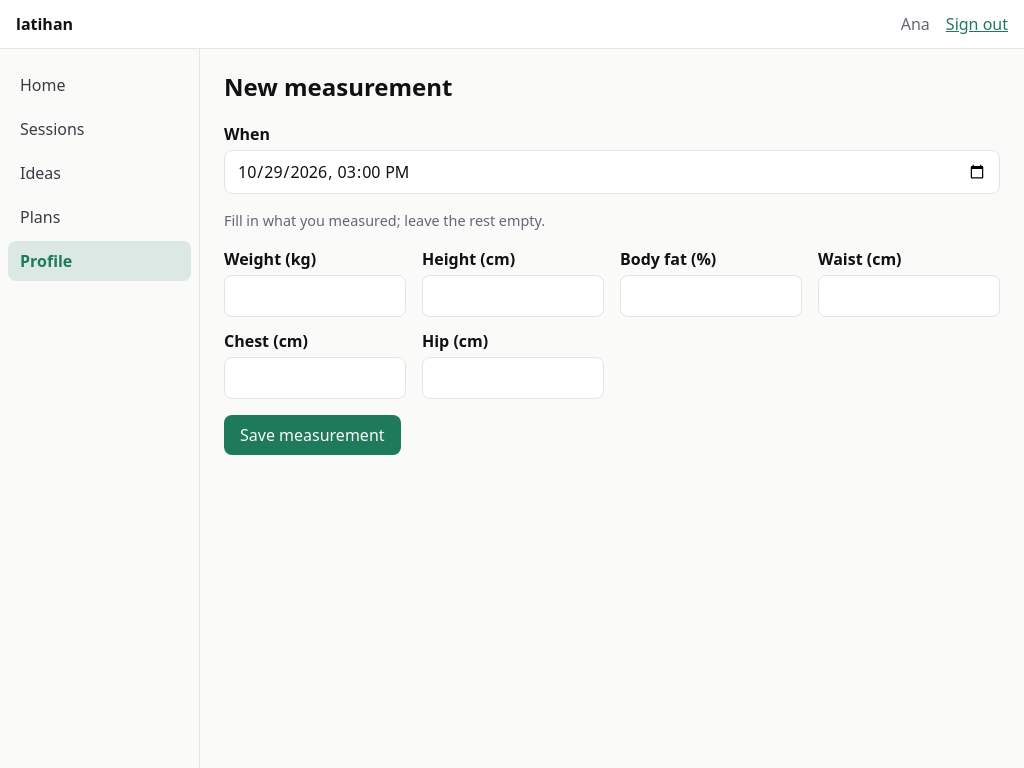
Scenario: adding a measurement › refuses an empty form without a request
Click the button "Save measurement" at [312, 435], box [224,415,400,455]
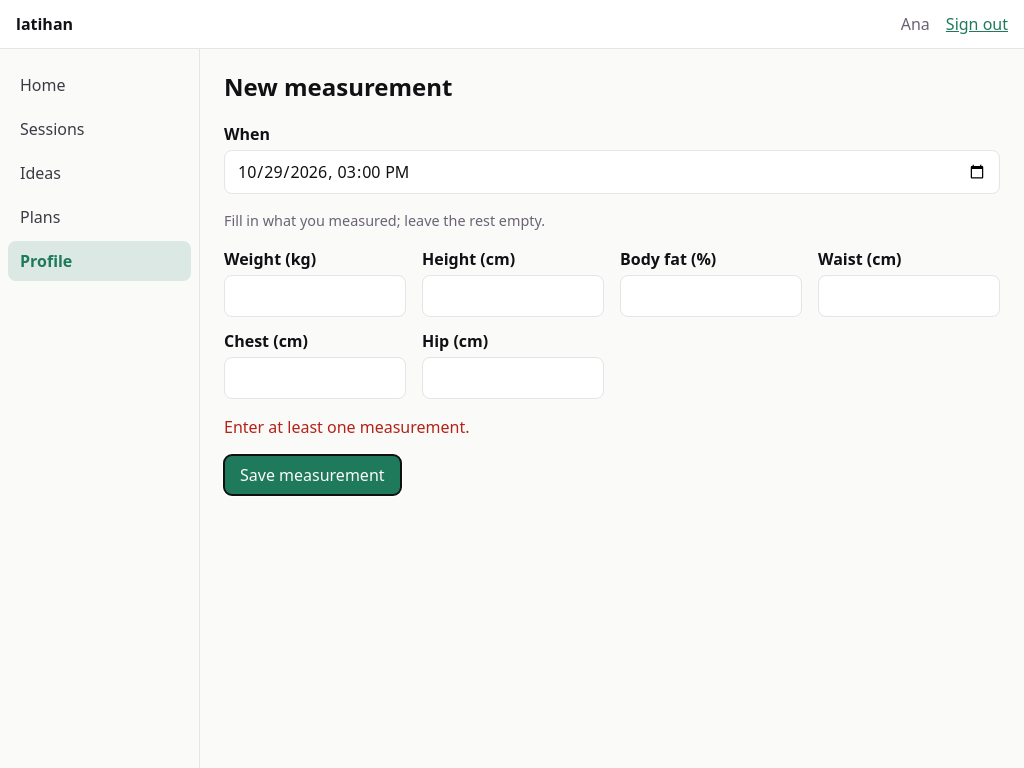
Check: the message reads "Enter at least one measurement.", box [224,416,470,438]
